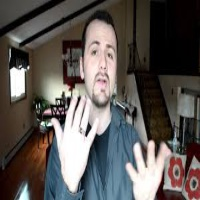ring: (79, 96, 94, 135), (132, 140, 148, 174)
